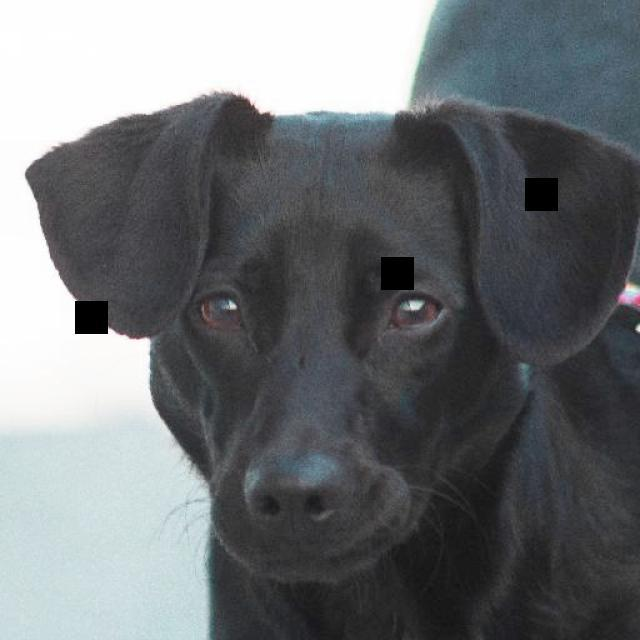adult_dog: (23, 95, 640, 640)
